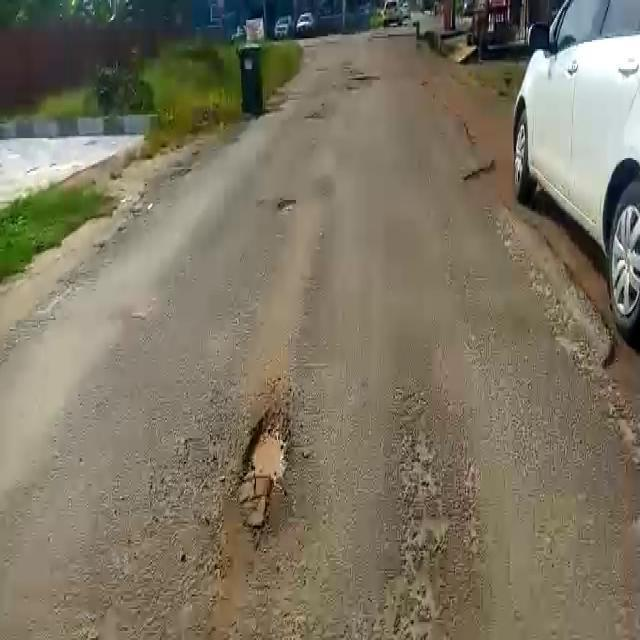pothole: (233, 407, 298, 537)
